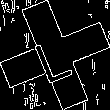L_N: (31, 26, 79, 84)
